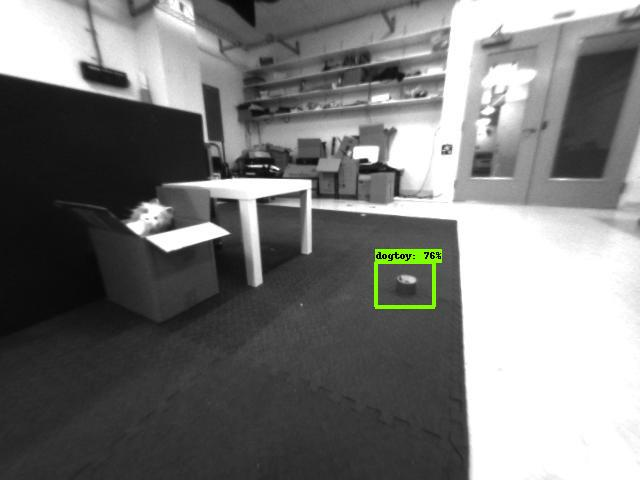dogtoy: (381, 257, 433, 305)
